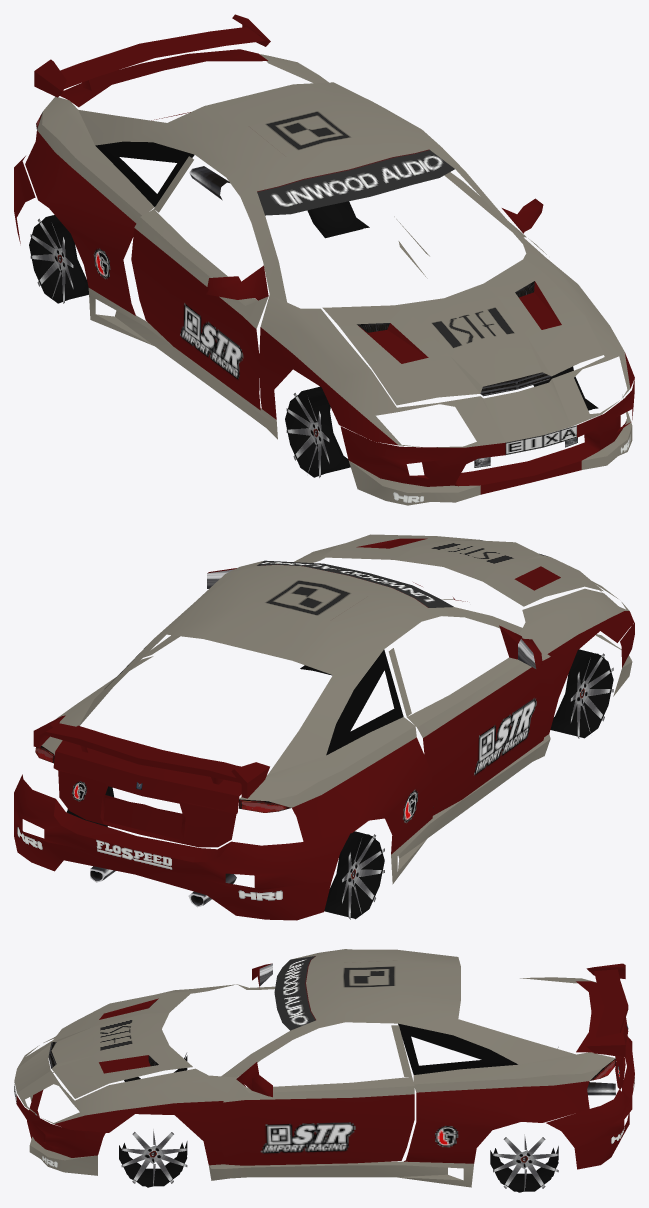
The model's file is car-SPRT_Car7.glb.
3 views of the same model, one above another, from view 1: azimuth 30°, elevation 25°; view 2: azimuth 150°, elevation 25°; view 3: azimuth 270°, elevation 25° (orthographic). The views are drawn at different scales.
Visible parts, largest first — view 1: SPRT_Car7; view 2: SPRT_Car7; view 3: SPRT_Car7.
Part boxes in pixels (left/top/right/bottom): SPRT_Car7: left=14, top=14, right=634, bottom=505; SPRT_Car7: left=14, top=534, right=634, bottom=920; SPRT_Car7: left=14, top=949, right=634, bottom=1192.
Size of the model in its own units: 2.07 by 1.23 by 4.33.
Materials: 19 (19 with a texture image).
